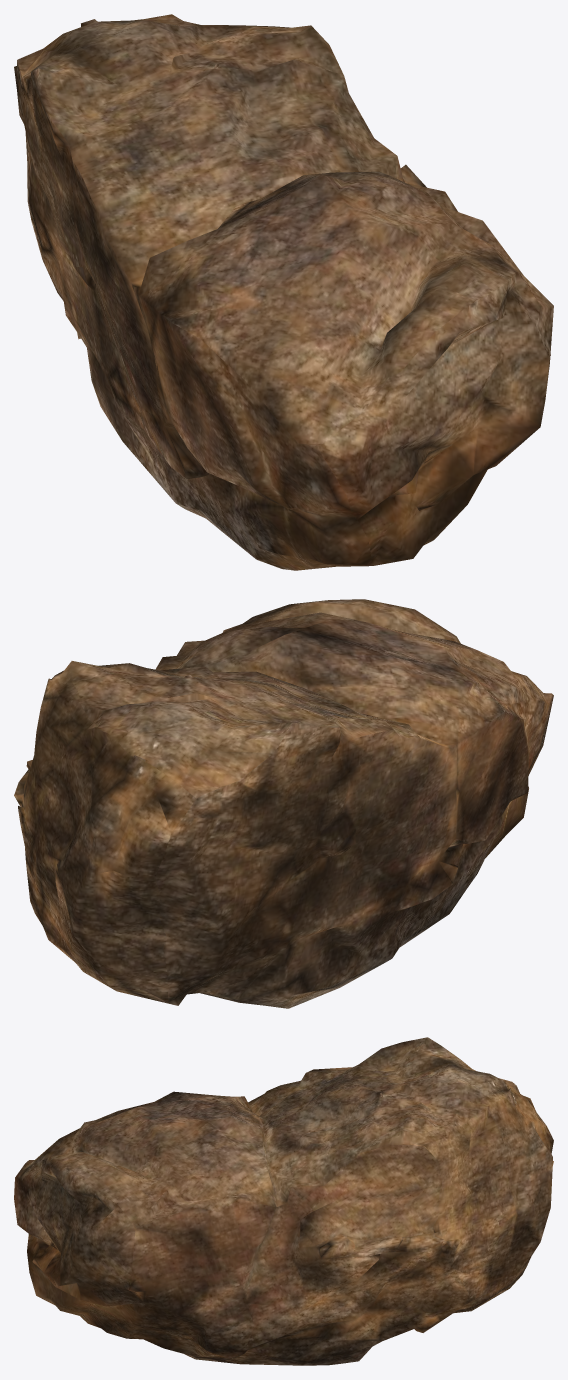
Rendered from rock-boulder-06.glb.
The picture shows the model from 3 angles, top to bottom: view 1: azimuth 30°, elevation 25°; view 2: azimuth 150°, elevation 25°; view 3: azimuth 270°, elevation 25°; orthographic projection. The views are drawn at different scales.
Visible parts, largest first — view 1: namaqualand_boulder_06; view 2: namaqualand_boulder_06; view 3: namaqualand_boulder_06.
Part boxes in pixels (<box>): namaqualand_boulder_06: <box>14,14,553,570</box>; namaqualand_boulder_06: <box>14,599,553,1008</box>; namaqualand_boulder_06: <box>14,1037,553,1365</box>.
Bounding box in the file's own units: 0.6717 × 0.6494 × 1.21.
Materials: 1 (1 with a texture image).
